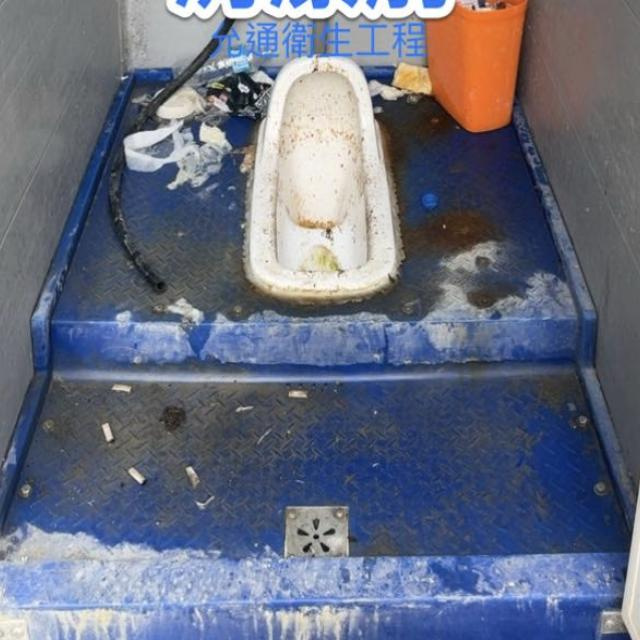dirty_area: (3, 210, 338, 635), (309, 120, 630, 551), (257, 58, 397, 294)
garbage: (82, 355, 310, 510), (125, 62, 265, 212), (82, 284, 256, 346), (357, 55, 443, 105)
